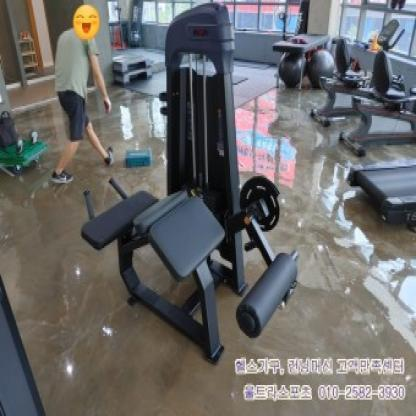reg curl machine: (74, 1, 302, 365)
